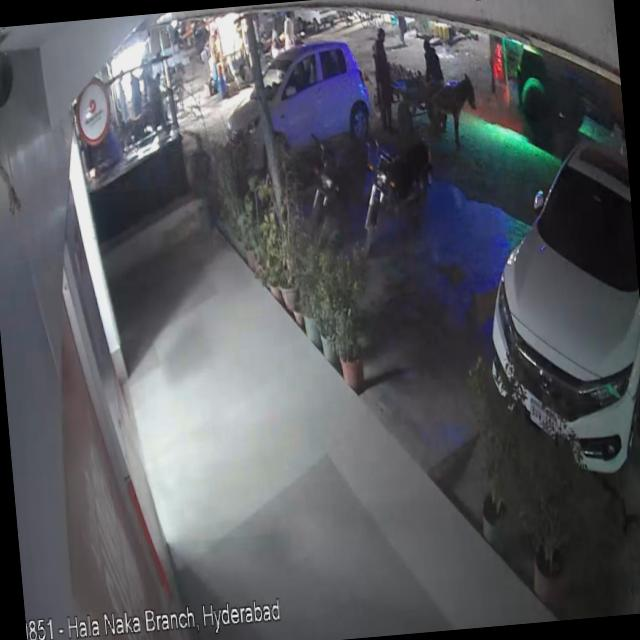Car: (470, 116, 640, 502), (219, 38, 393, 181)
Motorcycle: (357, 119, 444, 262), (306, 134, 375, 248)
